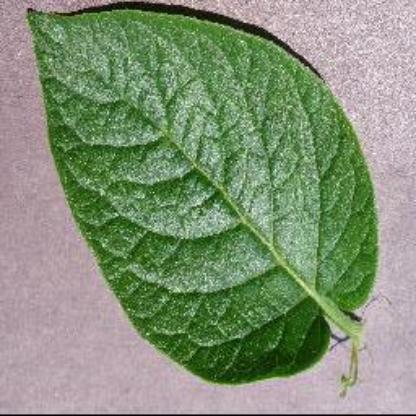Healthy-plant: (14, 2, 390, 394)
